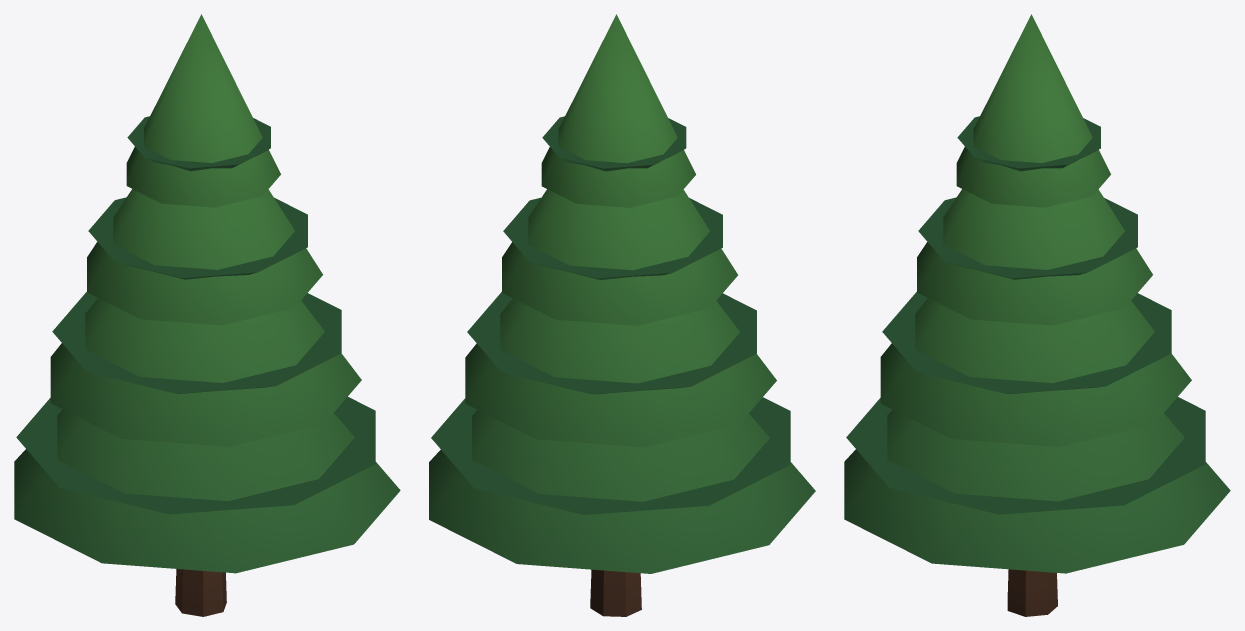
The model's file is tree_pine.glb.
The picture shows the model from 3 angles, left to right: view 1: azimuth 30°, elevation 25°; view 2: azimuth 150°, elevation 25°; view 3: azimuth 270°, elevation 25°; orthographic projection.
Visible parts, largest first — view 1: TreePine; view 2: TreePine; view 3: TreePine.
Boxes of the visible parts, x1=… form: TreePine: x1=14, y1=14, x2=400, y2=616; TreePine: x1=429, y1=14, x2=815, y2=616; TreePine: x1=844, y1=14, x2=1230, y2=616.
Bounding box in the file's own units: 3.55 × 5.9 × 3.49.
